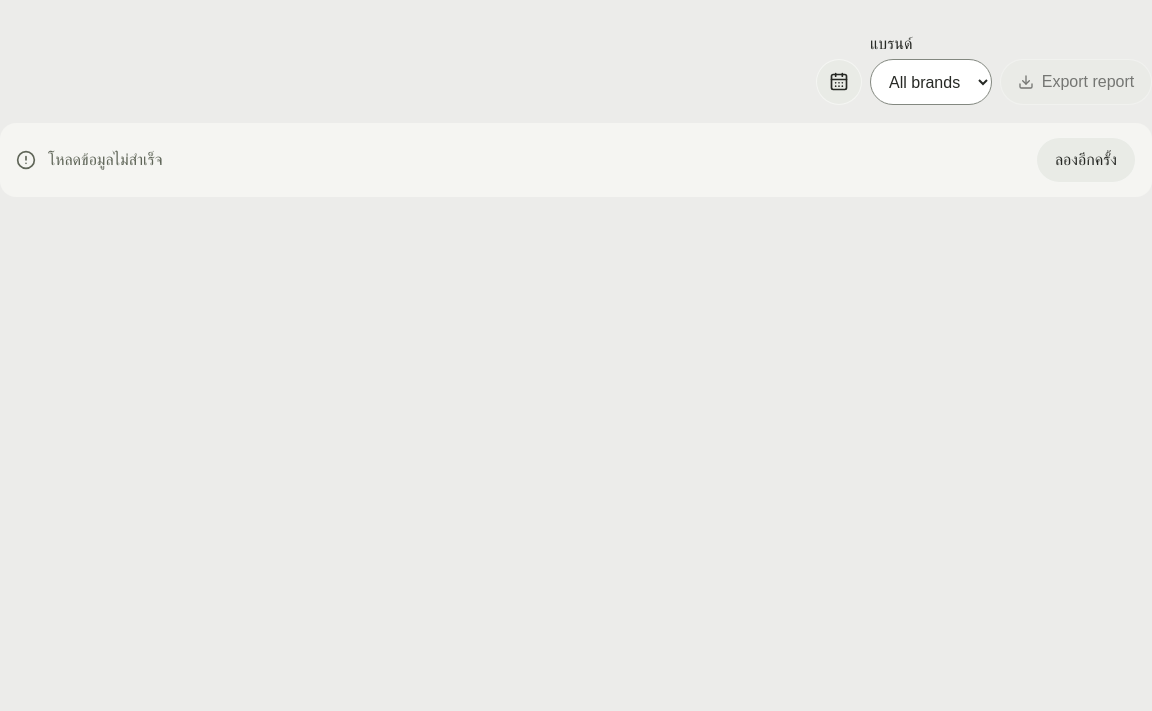
Test: Overview loading, errors and exact display › retries a failed first response and unavailable never presents old amounts as zero
Step 1. Click the button "ลองอีกครั้ง" → (1086, 160), box x1=1036 y1=137 x2=1136 y2=183
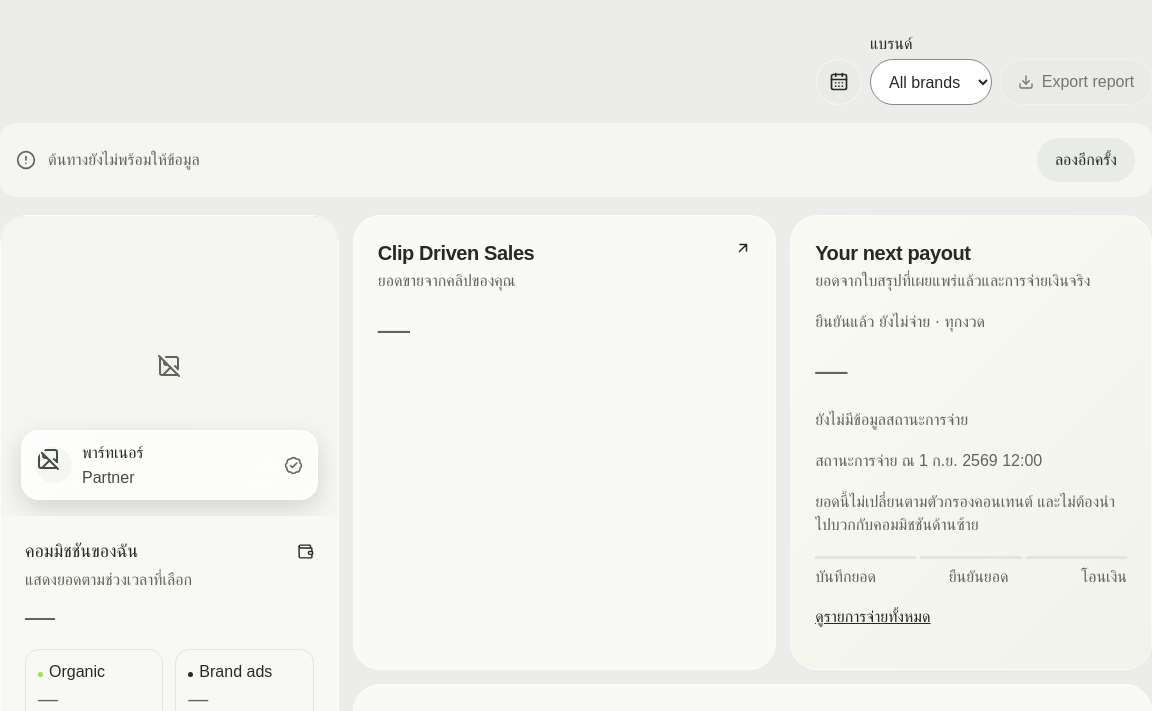
Expected: the text "ต้นทางยังไม่พร้อมให้ข้อมูล" is shown, x1=48 y1=151 x2=200 y2=168
